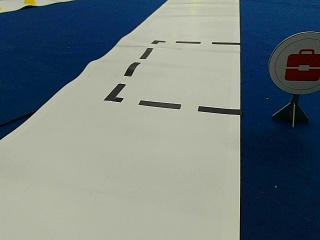company: (269, 31, 318, 93)
